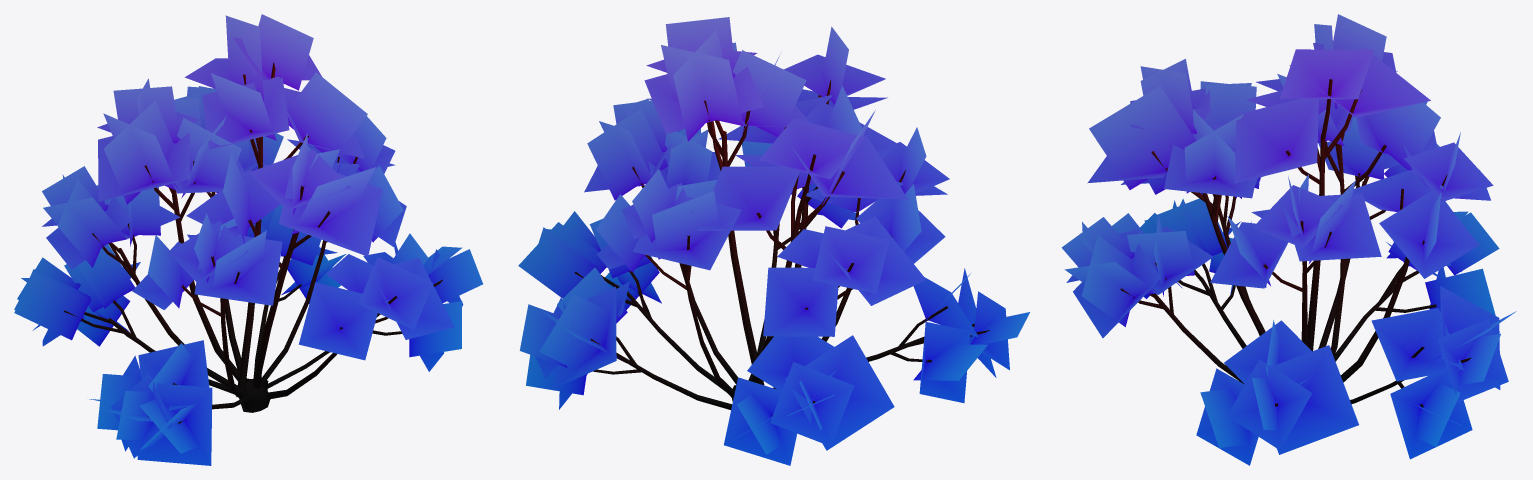
File: SM_Env_Bush_Tropical_01.gltf
The picture shows the model from 3 angles, left to right: view 1: azimuth 30°, elevation 25°; view 2: azimuth 150°, elevation 25°; view 3: azimuth 270°, elevation 25°; orthographic projection. The views are drawn at different scales.
Visible parts, largest first — view 1: SM_Env_Bush_Tropical_01_LOD0; view 2: SM_Env_Bush_Tropical_01_LOD0; view 3: SM_Env_Bush_Tropical_01_LOD0.
Part boxes in pixels (left/top/right/bottom): SM_Env_Bush_Tropical_01_LOD0: left=14, top=14, right=482, bottom=465; SM_Env_Bush_Tropical_01_LOD0: left=518, top=17, right=1029, bottom=465; SM_Env_Bush_Tropical_01_LOD0: left=1061, top=14, right=1516, bottom=465.
Bounding box in the file's own units: 2.24 × 1.94 × 1.99.
